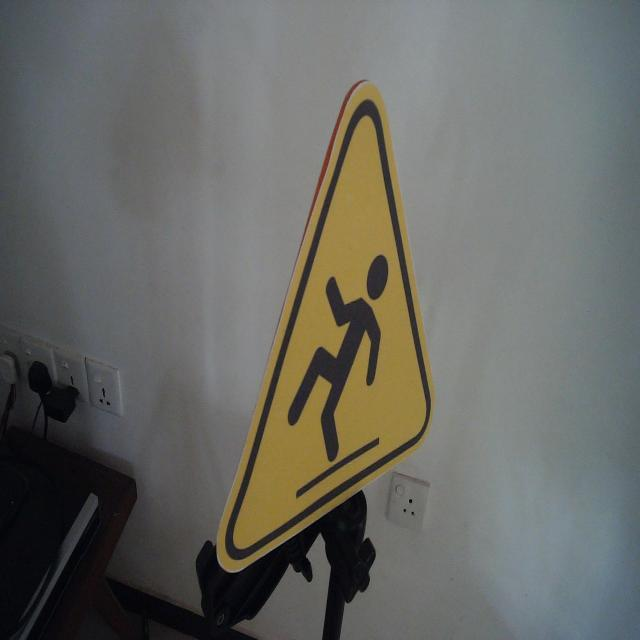slippery_sign: (215, 76, 436, 576)
